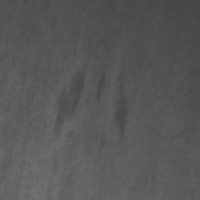inclusion: (46, 60, 94, 141), (100, 61, 143, 148), (84, 67, 115, 110)
